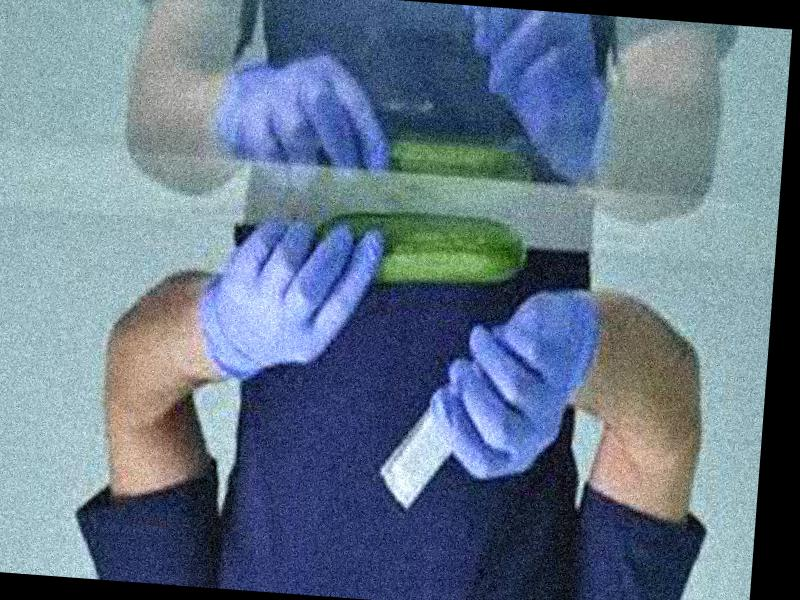Cucumber: (314, 205, 529, 292)
